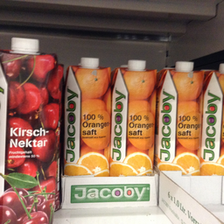juice: (1, 38, 59, 224), (109, 59, 160, 176), (64, 56, 111, 175), (157, 60, 204, 175)
